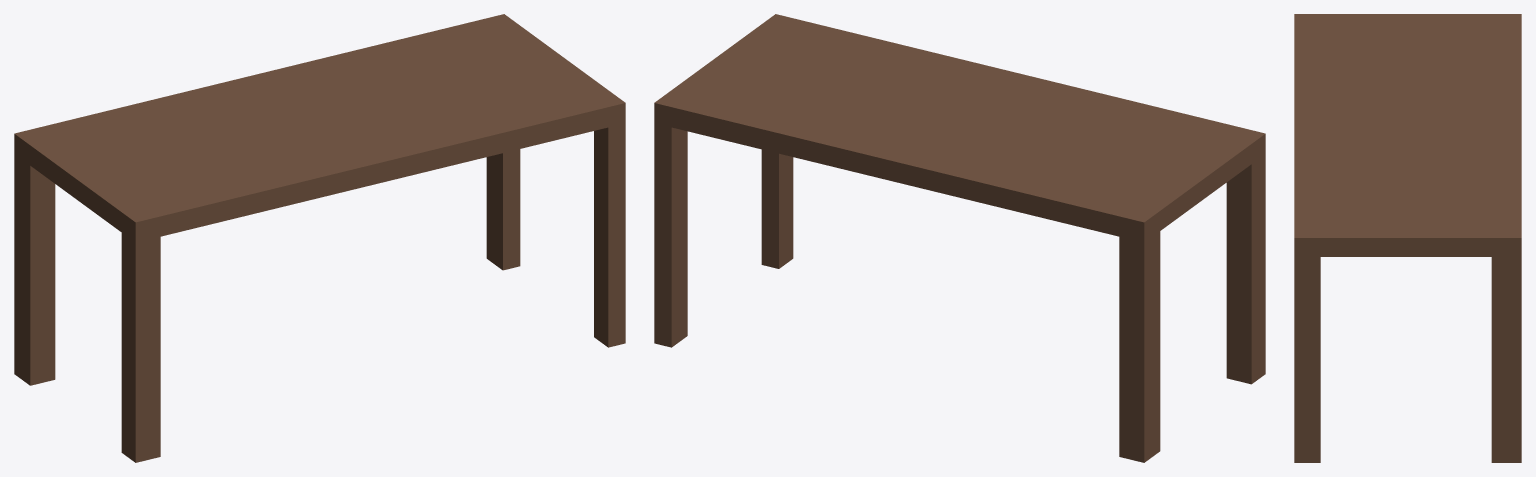
The model's file is table.glb.
3 views of the same model, side by side, from view 1: azimuth 30°, elevation 25°; view 2: azimuth 150°, elevation 25°; view 3: azimuth 270°, elevation 25° (orthographic). The views are drawn at different scales.
Visible parts, largest first — view 1: Cube; view 2: Cube; view 3: Cube.
Boxes of the visible parts, x1,y1,x2,y2 form: Cube: (14,14,625,462); Cube: (654,14,1265,462); Cube: (1294,14,1521,462).
Bounding box in the file's own units: 4.66 × 2.18 × 2.
1 material, 1 textured.
